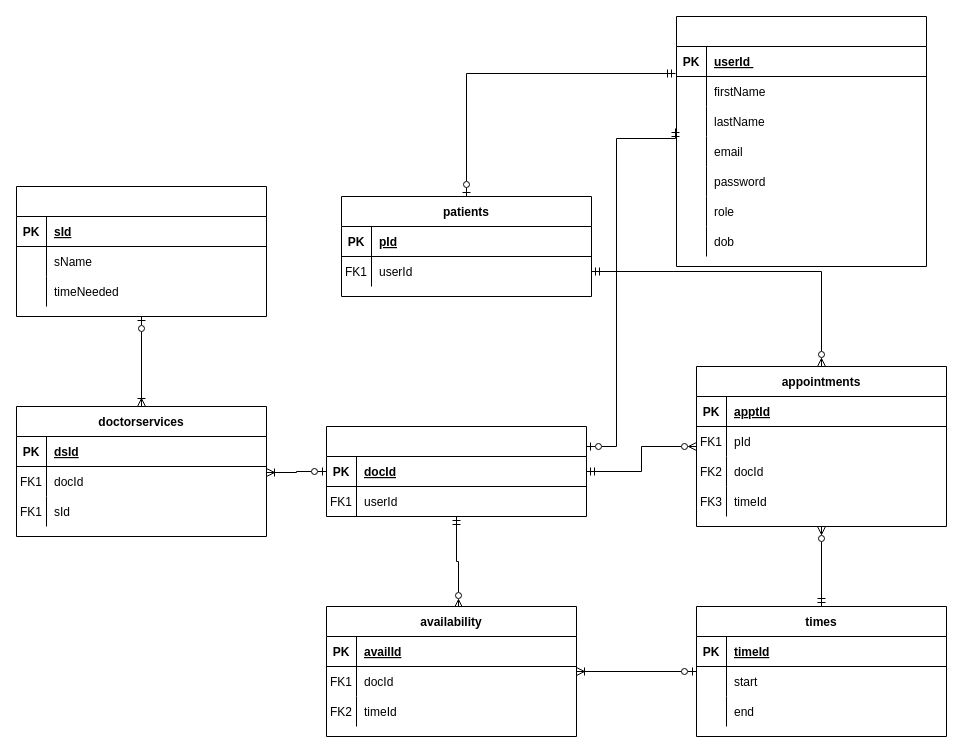
This 963x753 diagram has some shape labels left out. The shapes that lost their labels are listed below. From the top down, each one's box as (x1, y1, x2, y2) in pixels, then its label:
(676, 16, 926, 266): users
(16, 186, 266, 316): services
(326, 426, 586, 516): doctors
